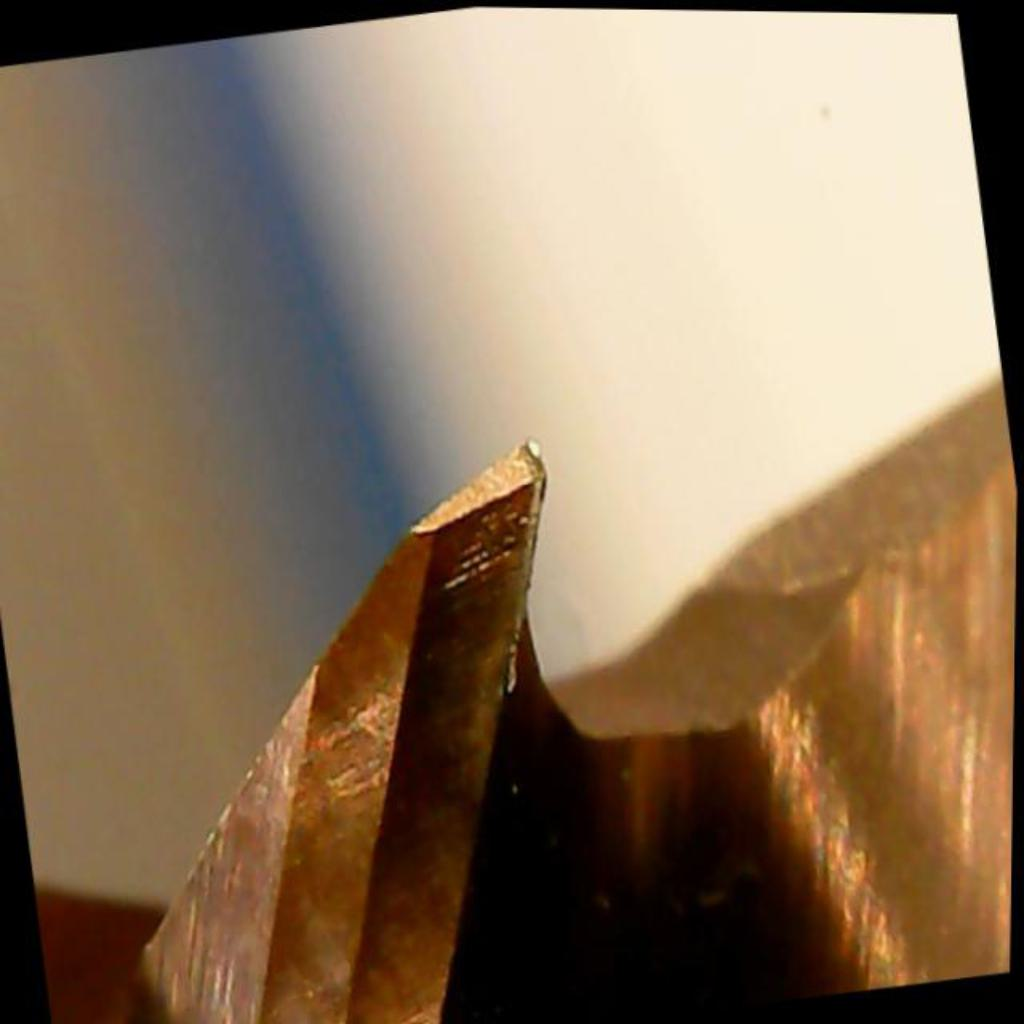Tool-wear-class-1: (299, 428, 616, 831)
